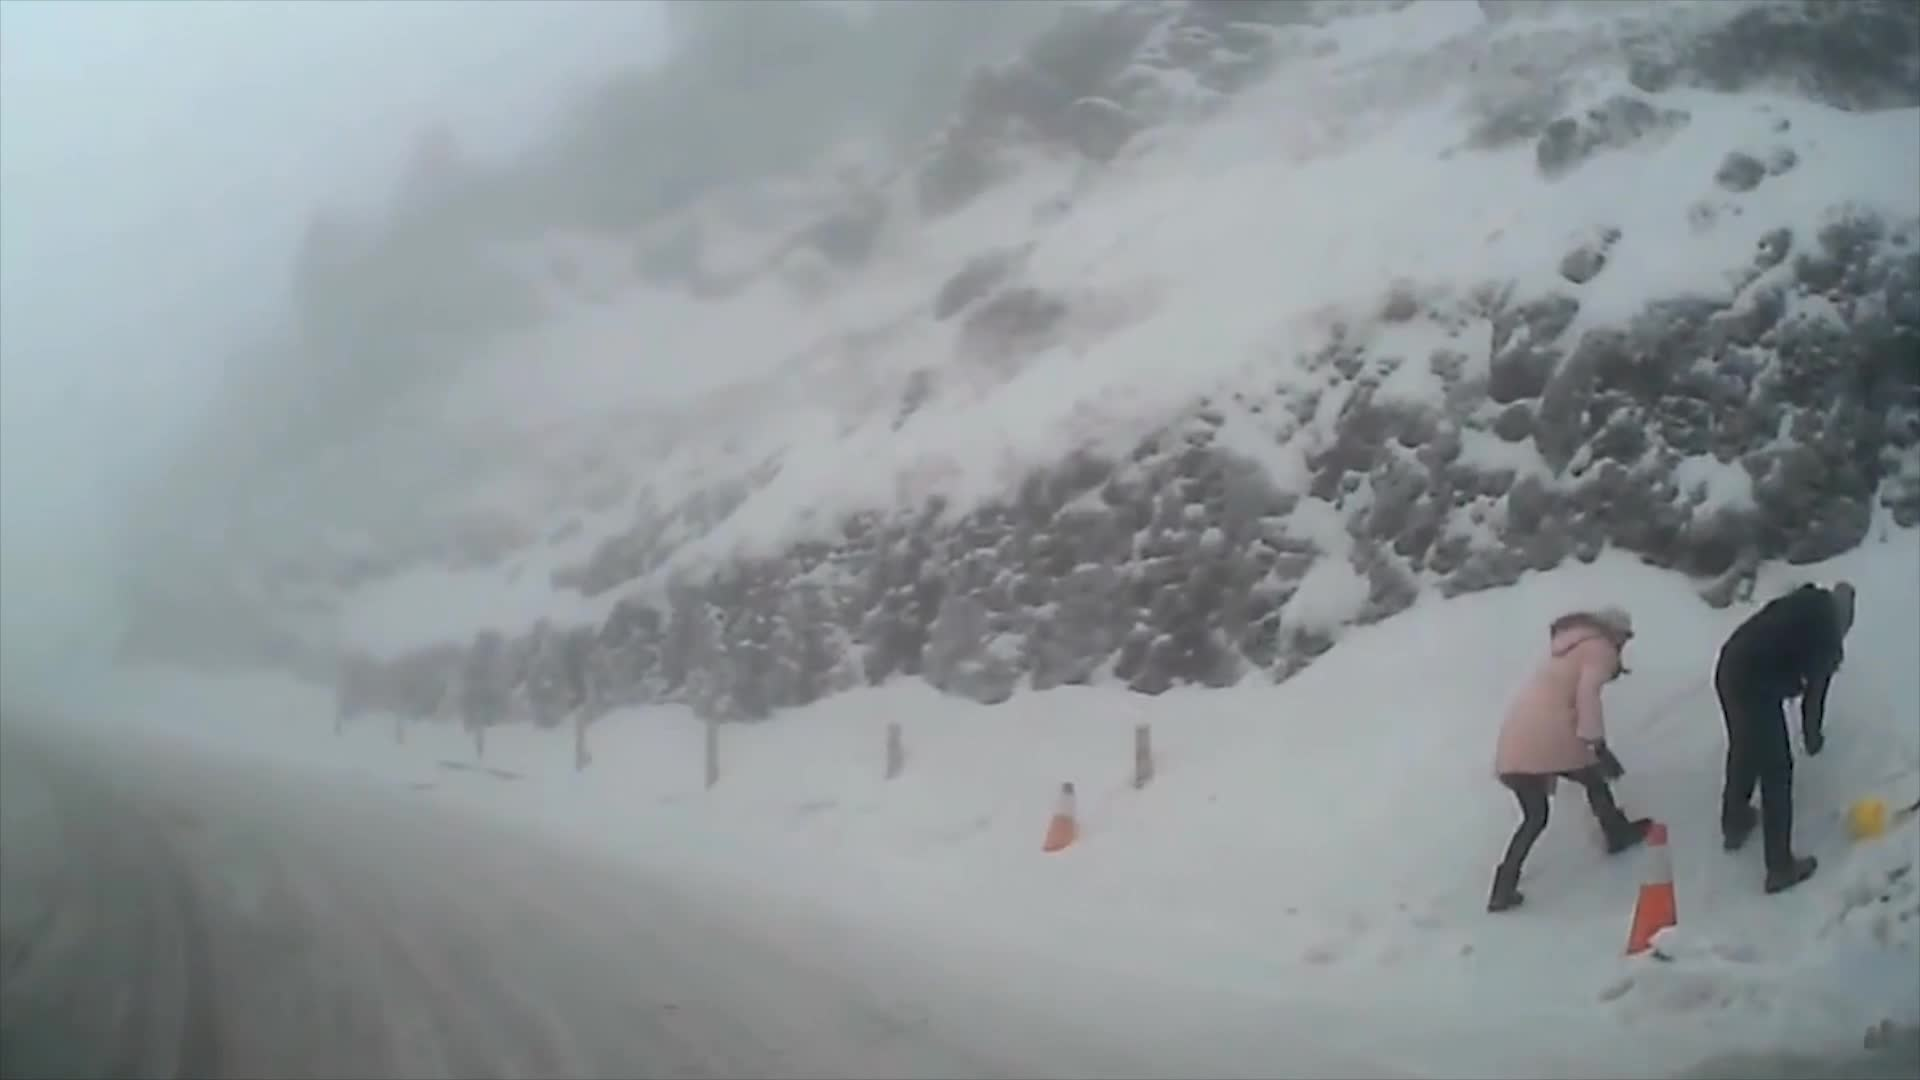pedestrian: (1489, 612, 1649, 915), (1717, 577, 1861, 898)
